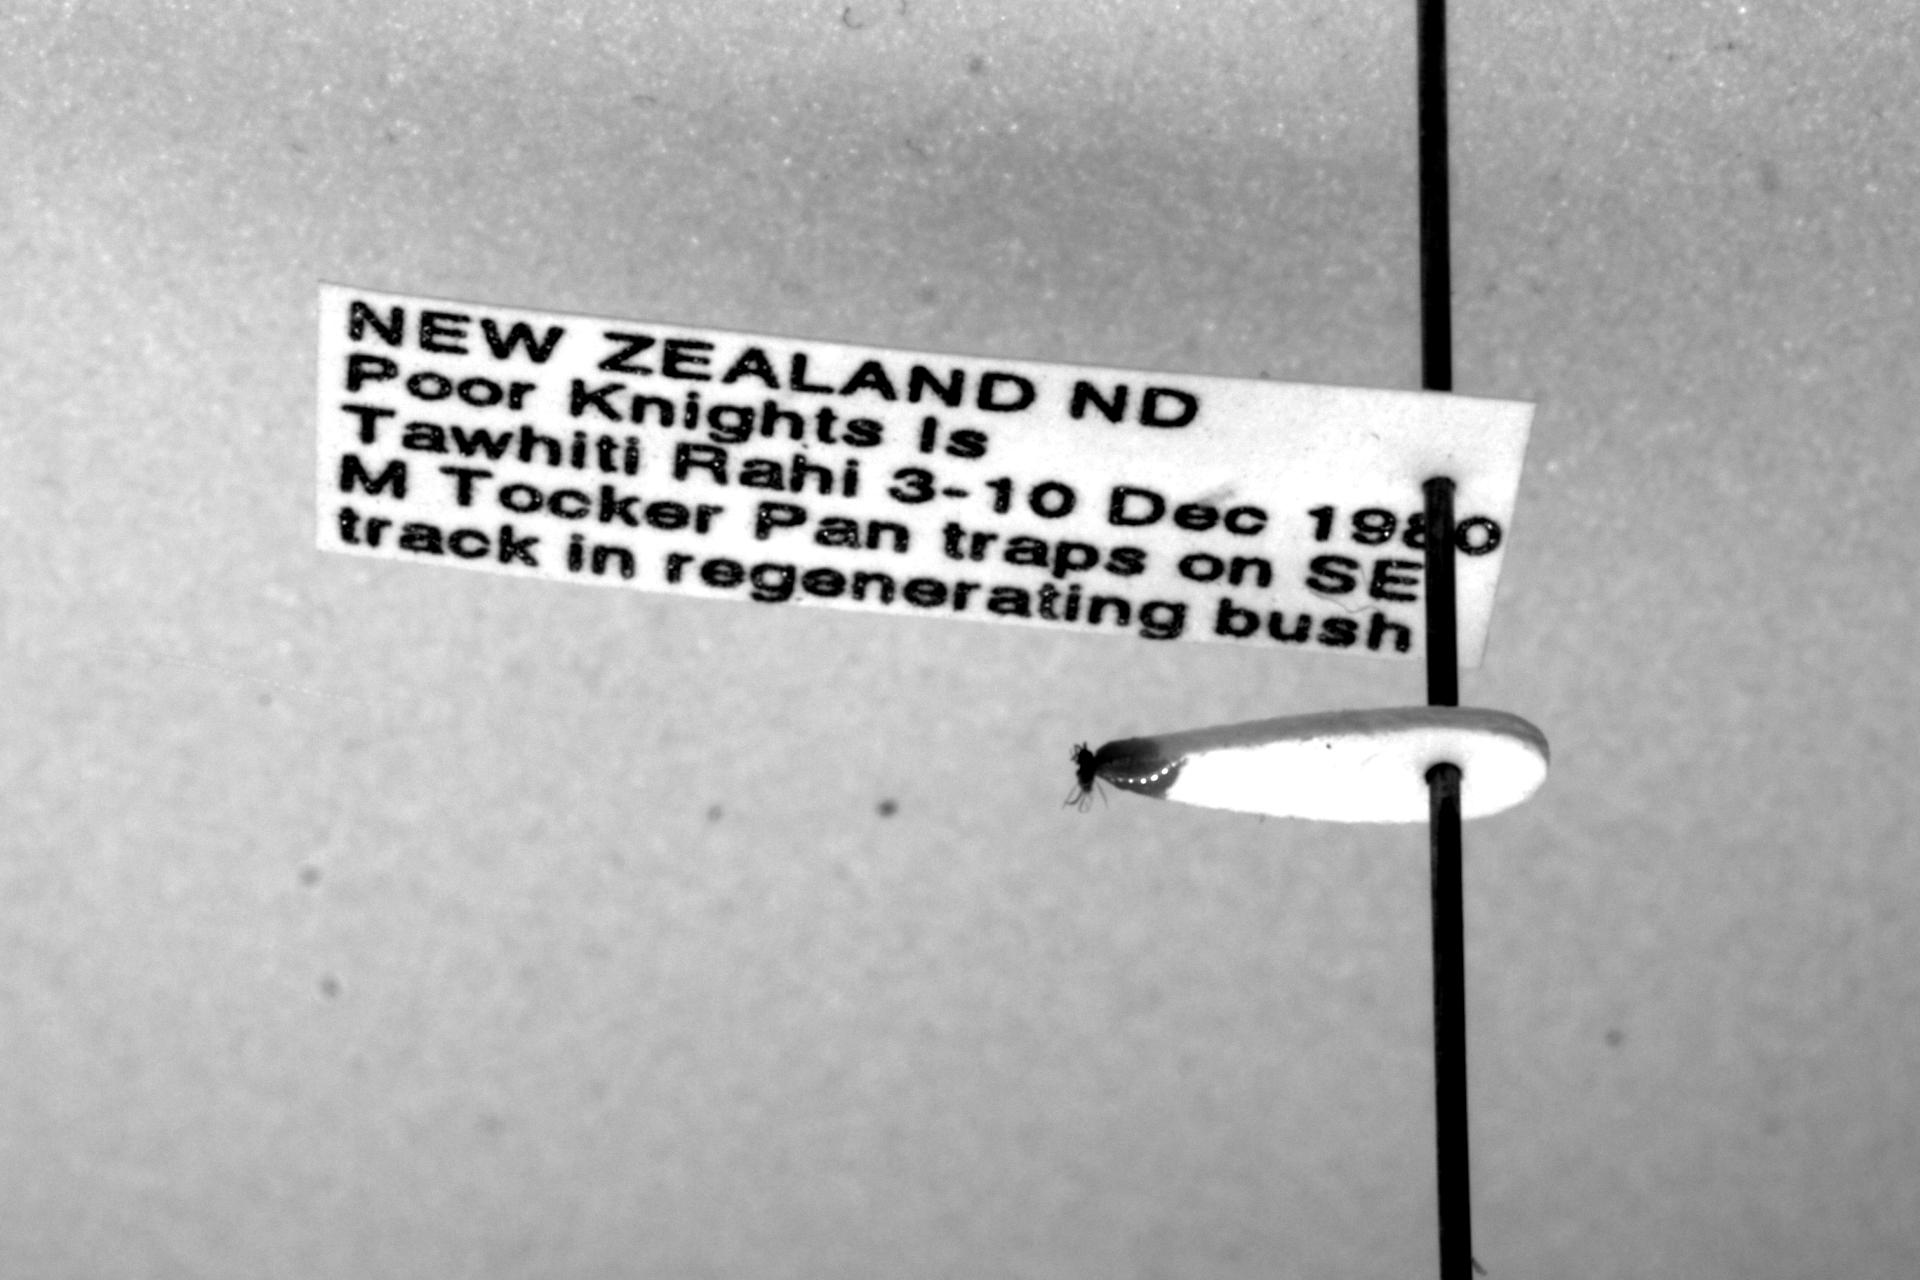typed_label: (314, 286, 1534, 664)
